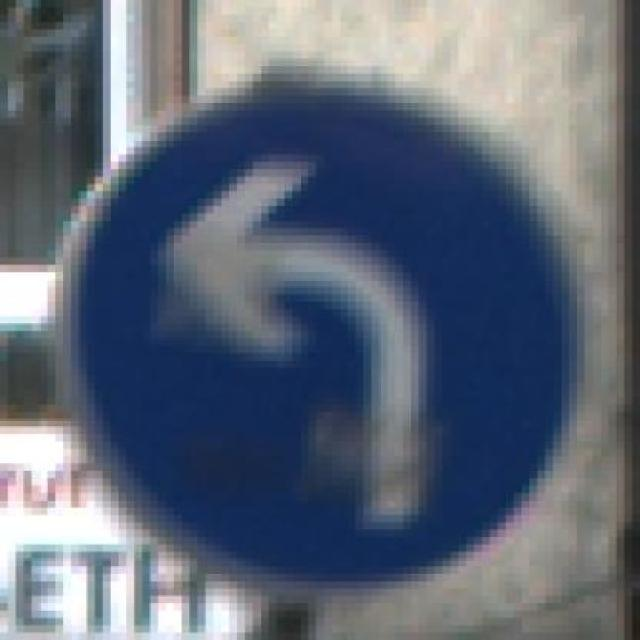Turn left ahead: (47, 52, 593, 603)
